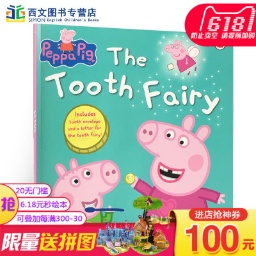Peppa: (125, 112, 228, 217)
